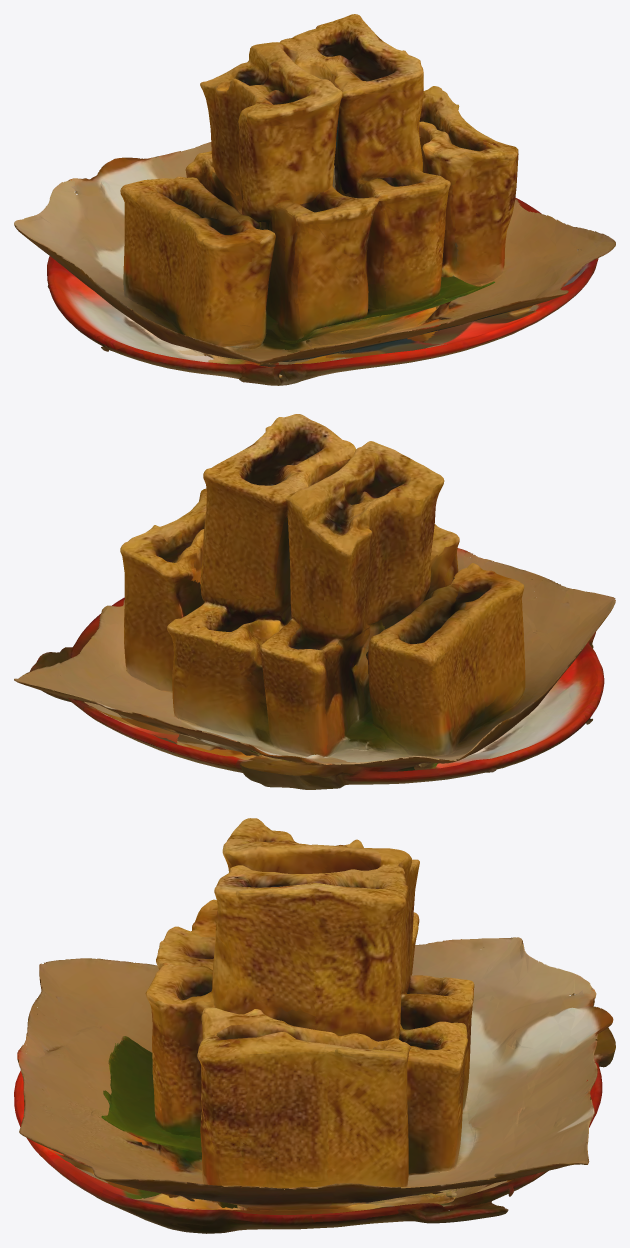
The model's file is sagu-bakar.glb.
3 views of the same model, one above another, from view 1: azimuth 30°, elevation 25°; view 2: azimuth 150°, elevation 25°; view 3: azimuth 270°, elevation 25° (orthographic). The views are drawn at different scales.
Visible parts, largest first — view 1: Object_4; view 2: Object_4; view 3: Object_4.
Boxes of the visible parts, x1=… form: Object_4: x1=14, y1=14, x2=615, y2=385; Object_4: x1=14, y1=414, x2=615, y2=789; Object_4: x1=14, y1=818, x2=615, y2=1233.
Bounding box in the file's own units: 0.9997 × 0.5128 × 0.9513.
Materials: 1 (1 with a texture image).
